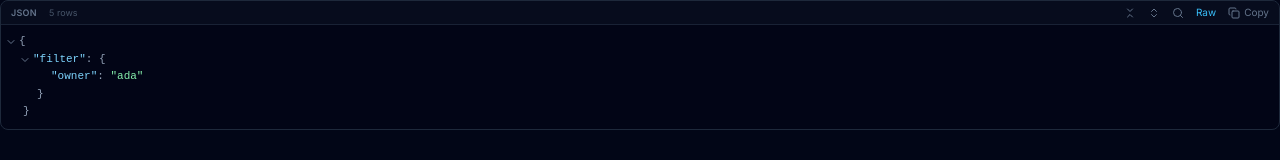
Test case: ValueView: a JSON value › unfolds again
The width and height of the screenshot is (1280, 160).
Click the button named "Fold" next to "filter". click: [25, 60]
box: [19,54,31,66]
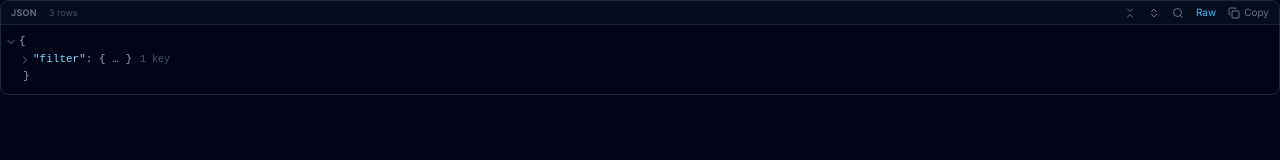
Click the button named "Unfold". click: [25, 60]
box: [19,54,31,66]
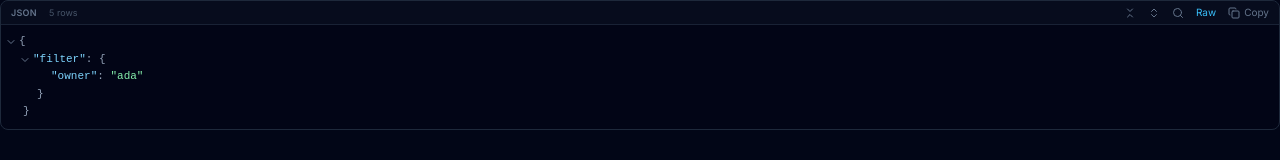
Expected: the text "ada" is shown, [117,70,137,82]
